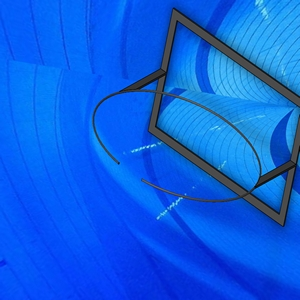circle: (92, 8, 299, 229)
